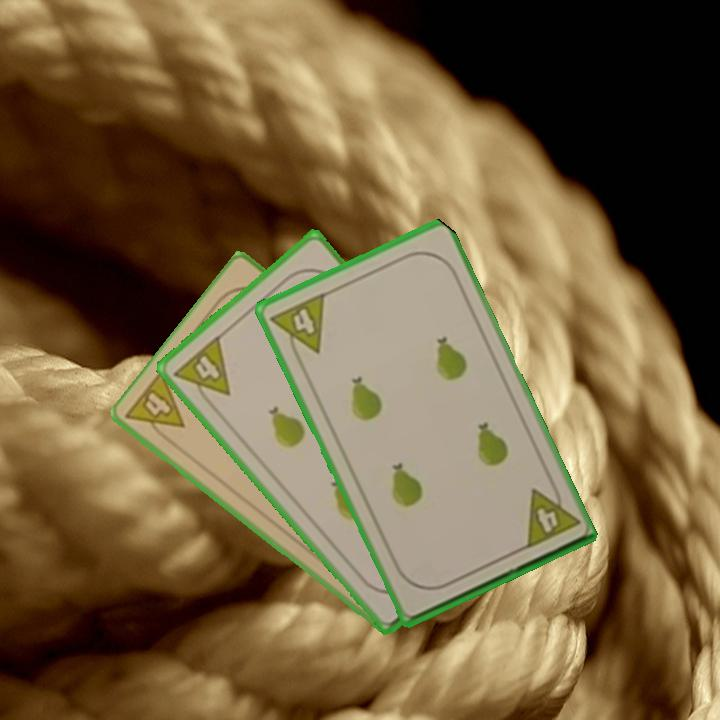4p: (122, 366, 188, 449), (170, 331, 233, 412), (267, 289, 328, 365), (520, 478, 581, 552)
